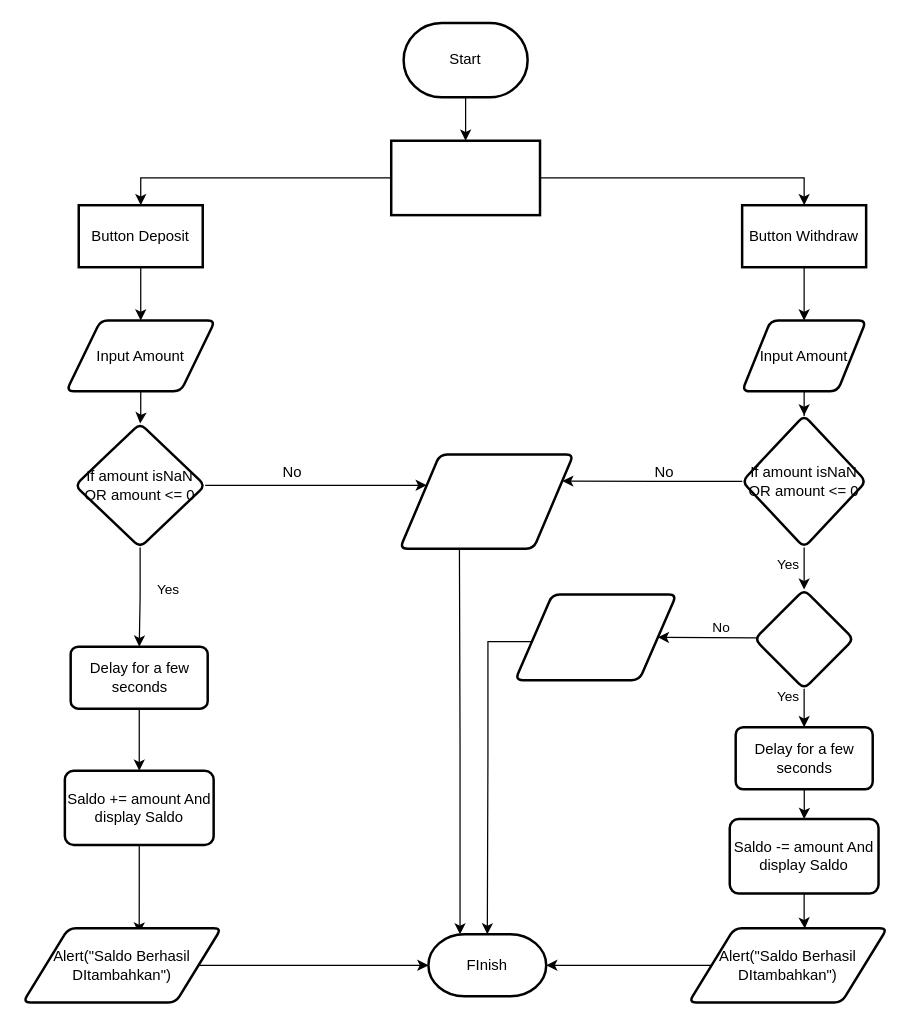
The diagram is 909 pixels wide and 1024 high, and some of its shapes have lost their labels. Here are the shapes that lost their labels. From the top down, the centre of each, then its label:
point 465,177: View Page, Saldo, Button Deposit & Withdraw
point 486,501: Alert (" Masukan angka yang Valid")
point 595,637: Alert("Transaksi Gagal! Saldo tidak mencukupi")
point 803,638: If saldo < amount
